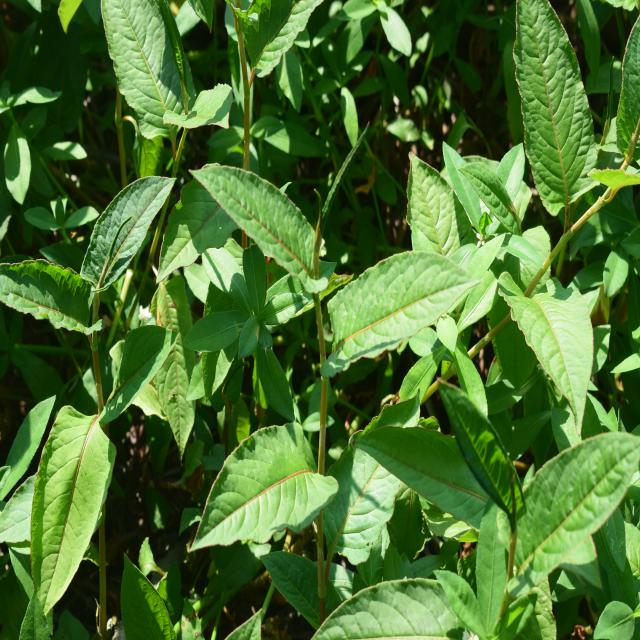Chinese_knotweed: (23, 158, 170, 563), (210, 142, 455, 356), (505, 0, 611, 420)
